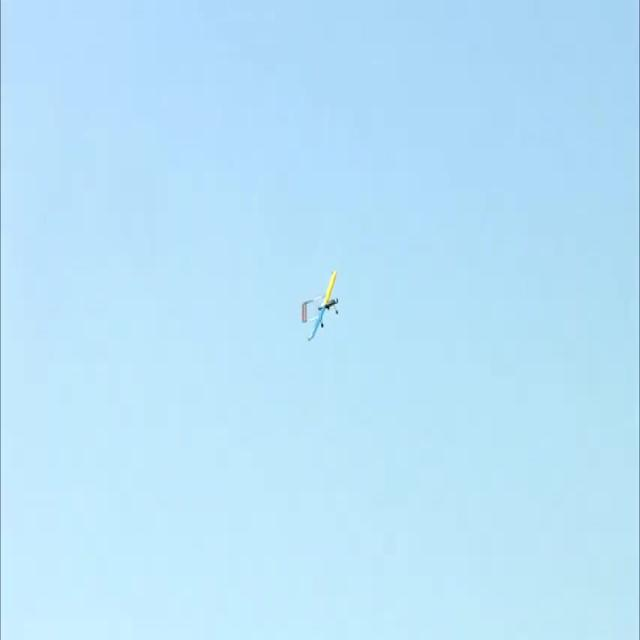iha: (300, 297, 340, 314)
